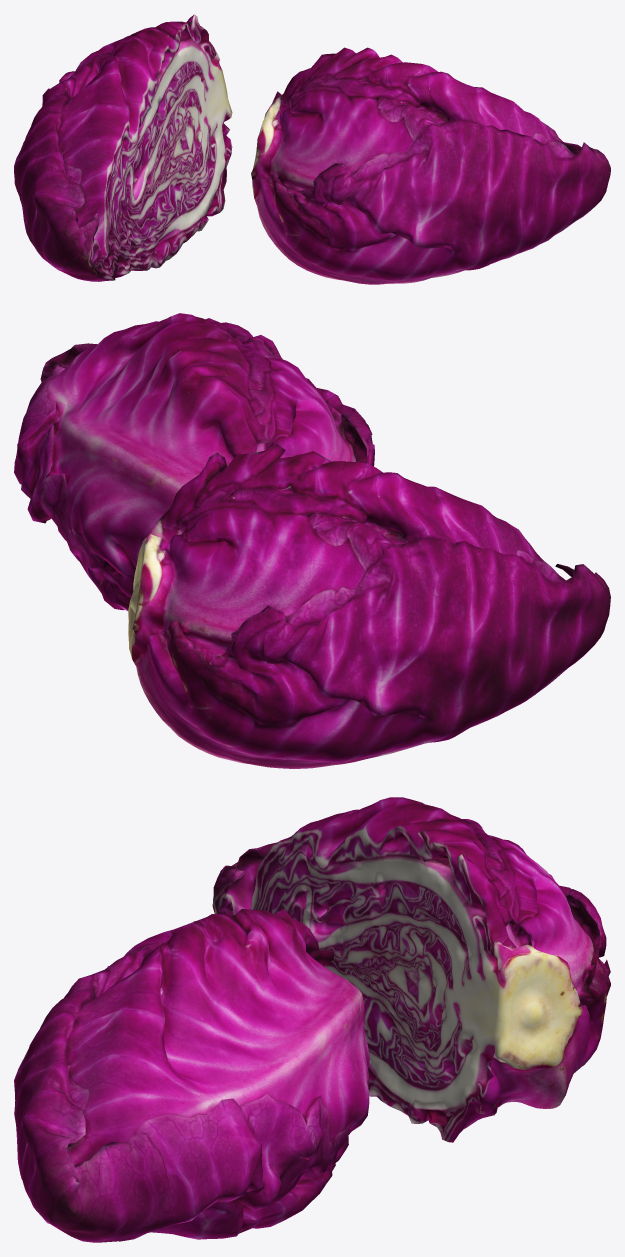
File: Red_pointed_cabbage_and_half_SF.obj
The picture shows the model from 3 angles, top to bottom: view 1: azimuth 30°, elevation 25°; view 2: azimuth 150°, elevation 25°; view 3: azimuth 270°, elevation 25°; orthographic projection. The views are drawn at different scales.
Visible parts, largest first — view 1: Red_pointed_cabbage, Red_pointed_cabbage_half; view 2: Red_pointed_cabbage_half, Red_pointed_cabbage; view 3: Red_pointed_cabbage, Red_pointed_cabbage_half.
Part boxes in pixels (<box>): Red_pointed_cabbage: <box>251,47,610,284</box>; Red_pointed_cabbage_half: <box>14,14,232,281</box>; Red_pointed_cabbage_half: <box>128,444,610,768</box>; Red_pointed_cabbage: <box>14,313,374,611</box>; Red_pointed_cabbage: <box>14,908,369,1242</box>; Red_pointed_cabbage_half: <box>212,797,610,1142</box>.
Bounding box in the file's own units: 4.65 × 1.92 × 3.58.
2 materials, 2 textured.
